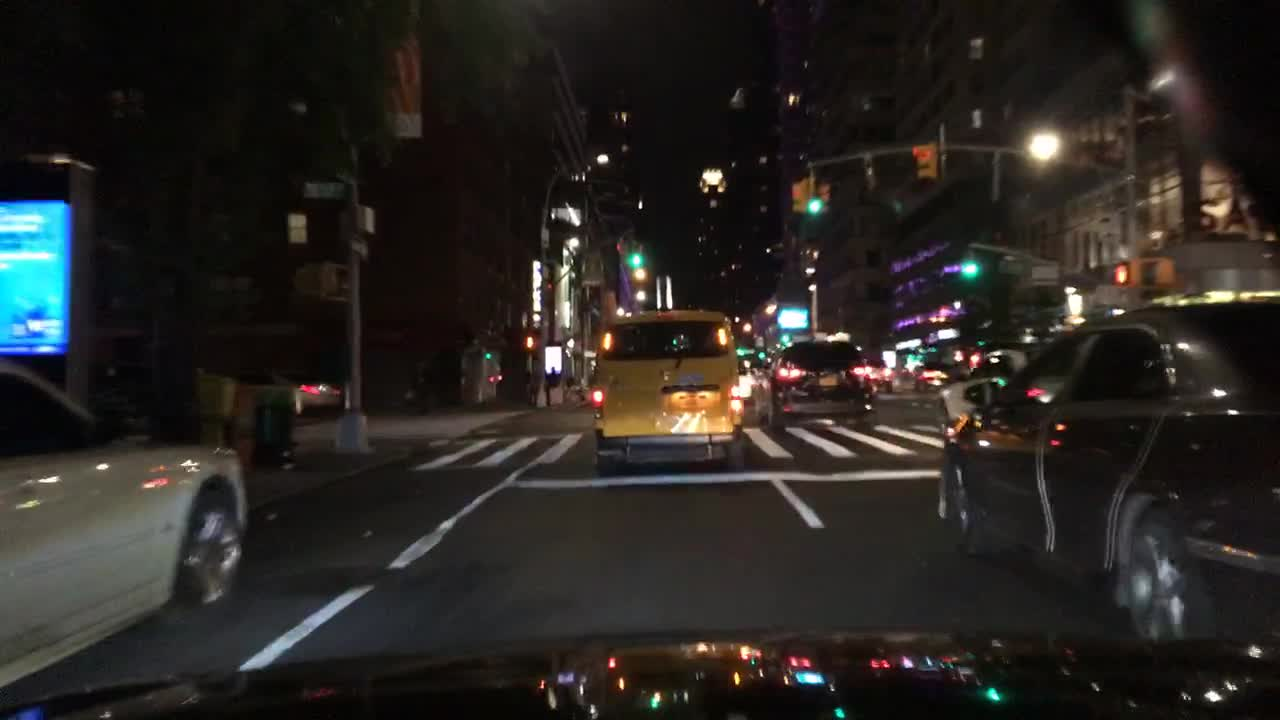car: (937, 301, 1280, 635), (2, 346, 256, 701), (583, 303, 768, 461), (751, 336, 884, 427), (928, 337, 1043, 428), (262, 365, 348, 413), (916, 355, 953, 392), (730, 358, 761, 402), (865, 355, 894, 386)
traffic light: (790, 170, 834, 215), (909, 142, 941, 179), (1109, 251, 1137, 287), (1144, 251, 1172, 287), (618, 237, 646, 268), (955, 252, 984, 280), (521, 325, 541, 350)
traffic sign: (319, 259, 358, 306), (300, 173, 354, 199), (357, 208, 383, 243), (287, 211, 310, 248), (342, 240, 372, 255)
